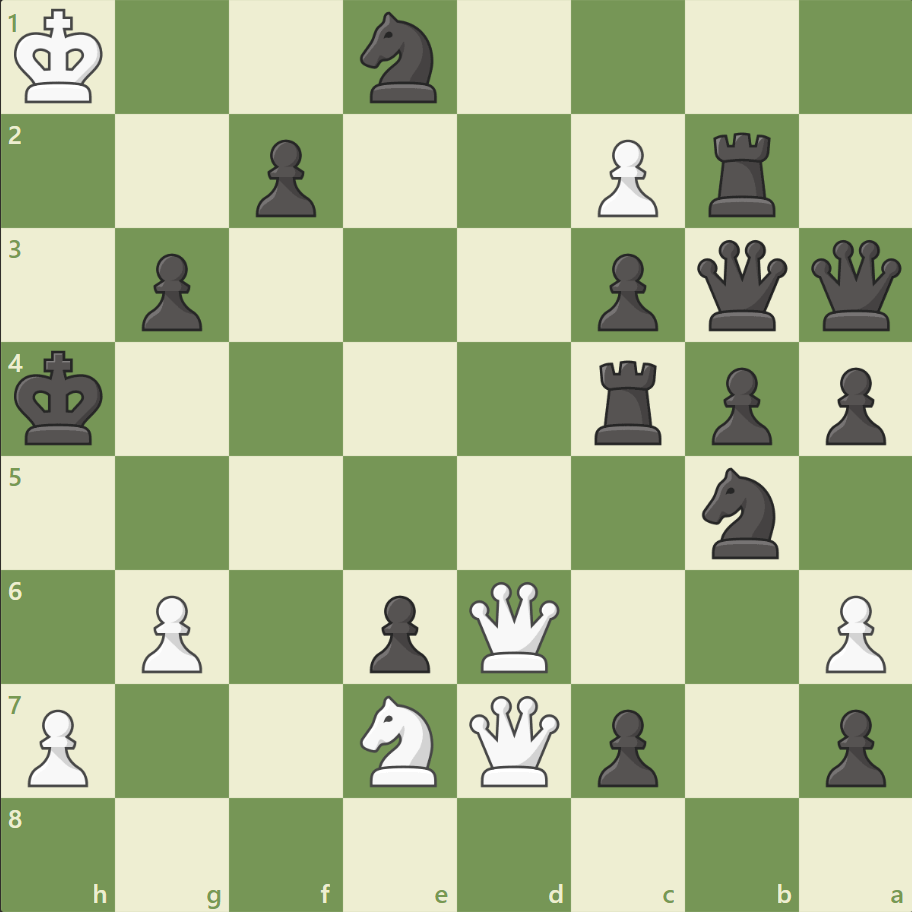K: (11, 4, 111, 112)
N: (351, 688, 449, 791)
P: (20, 700, 95, 791), (133, 586, 208, 677), (815, 586, 889, 677), (588, 132, 662, 223)
Q: (464, 576, 563, 676), (464, 690, 563, 789)
k: (11, 344, 111, 452)
n: (351, 7, 449, 110), (692, 461, 789, 564)
p: (701, 359, 776, 450), (133, 246, 208, 337), (247, 132, 322, 223), (815, 700, 889, 791), (588, 700, 662, 791), (361, 586, 435, 677), (815, 359, 889, 450), (588, 246, 662, 337)
q: (805, 236, 904, 335), (691, 236, 790, 335)
r: (587, 352, 670, 449), (700, 125, 783, 222)
